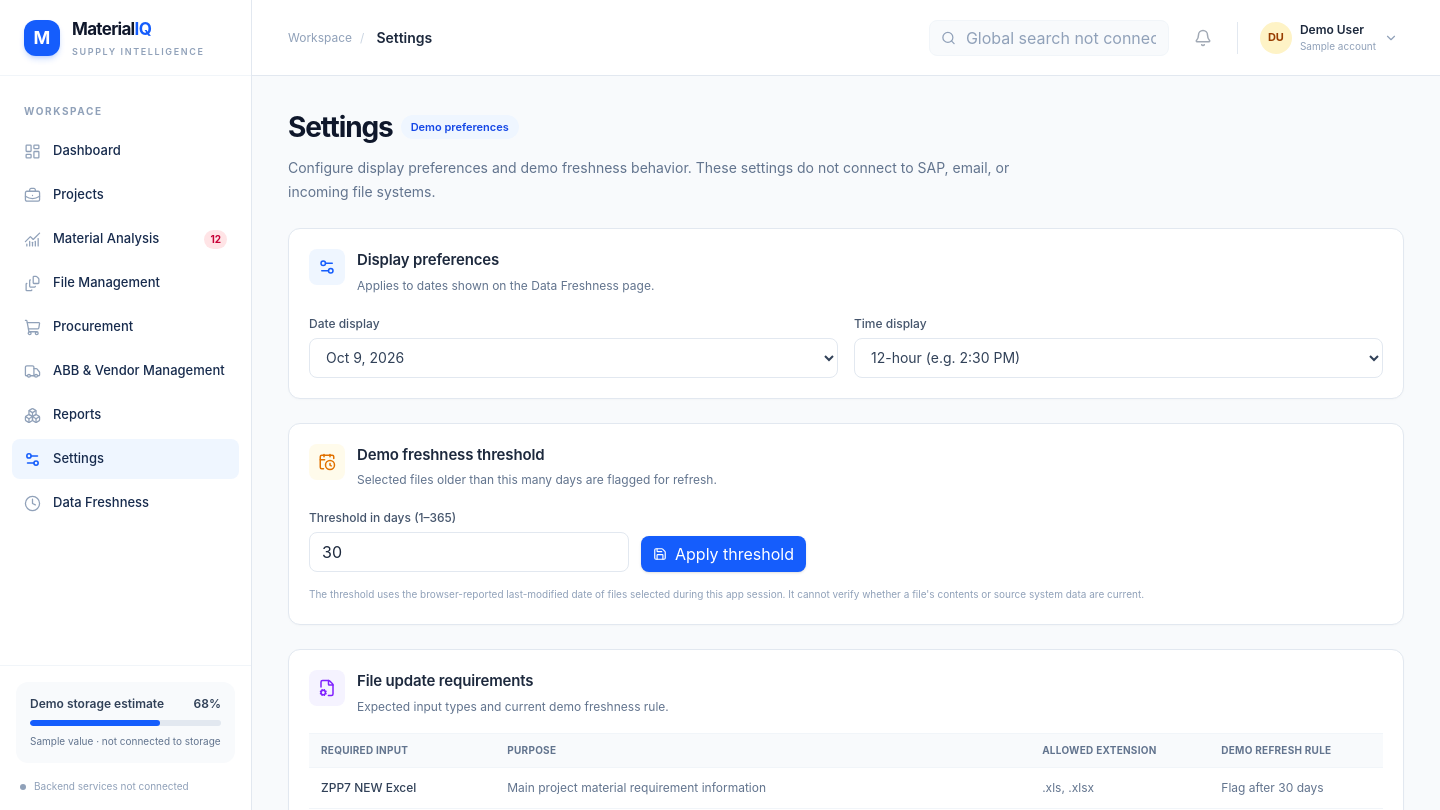
Test: MaterialIQ application › changes display preferences and applies a configurable demo freshness threshold
The image size is (1440, 810).
Select "2026-10-09" in the dropdown named "Date display preference" at (574, 358), box [309,338,838,378]
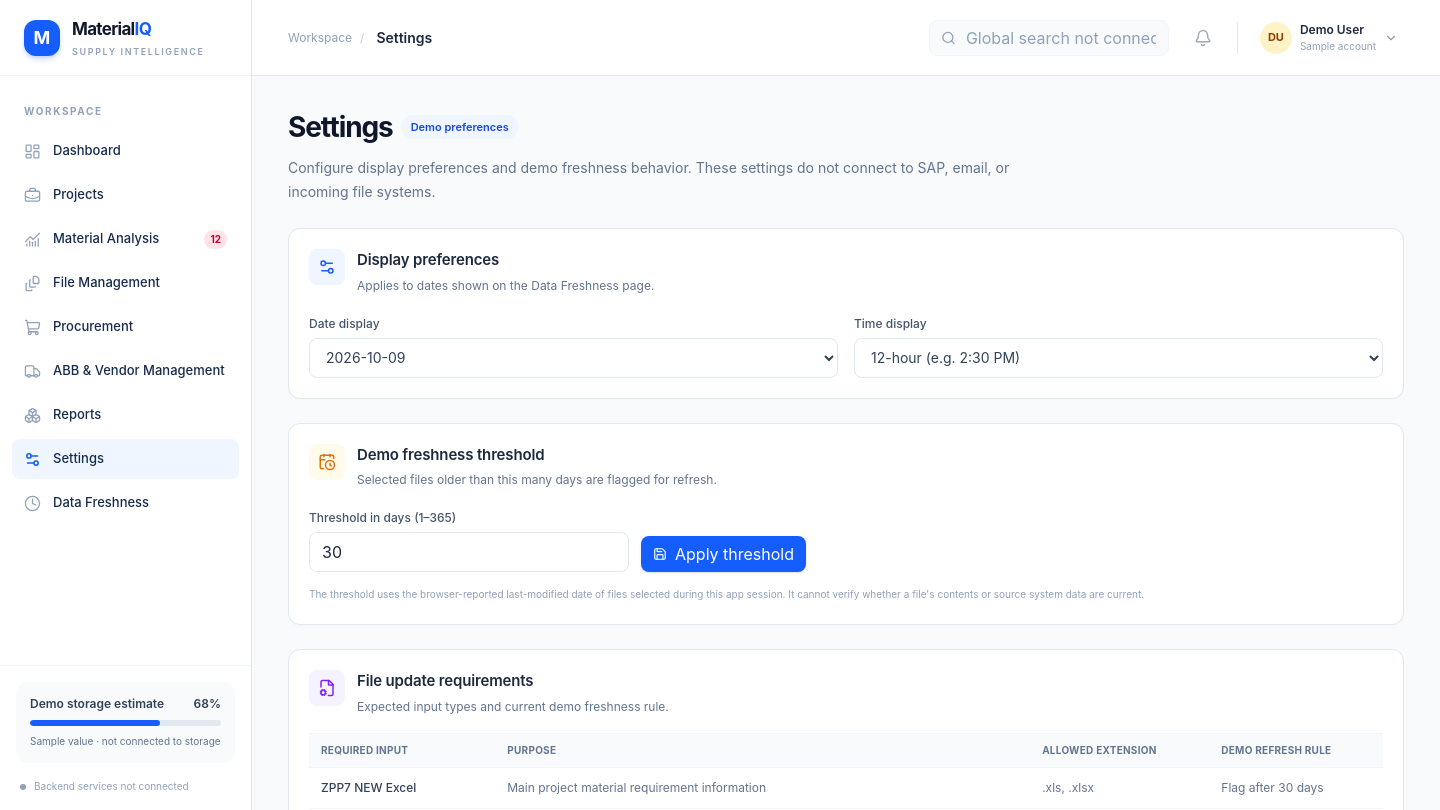
Select "24-hour (e.g. 14:30)" in the dropdown named "Time display preference" at (1118, 358), box [854,338,1383,378]
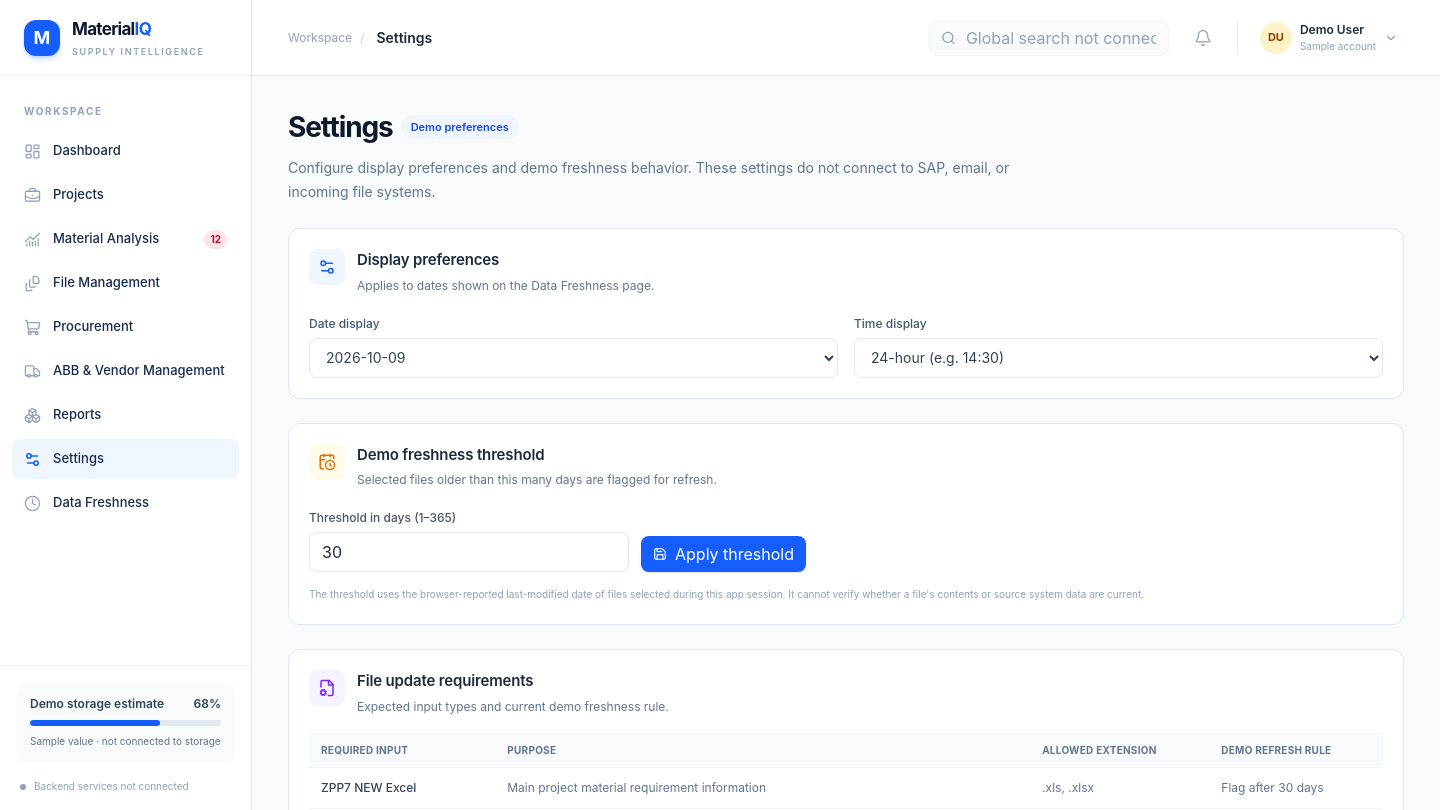
Replace the text in the number field named "Freshness threshold days" with "14" at (469, 552), box [309,532,629,572]
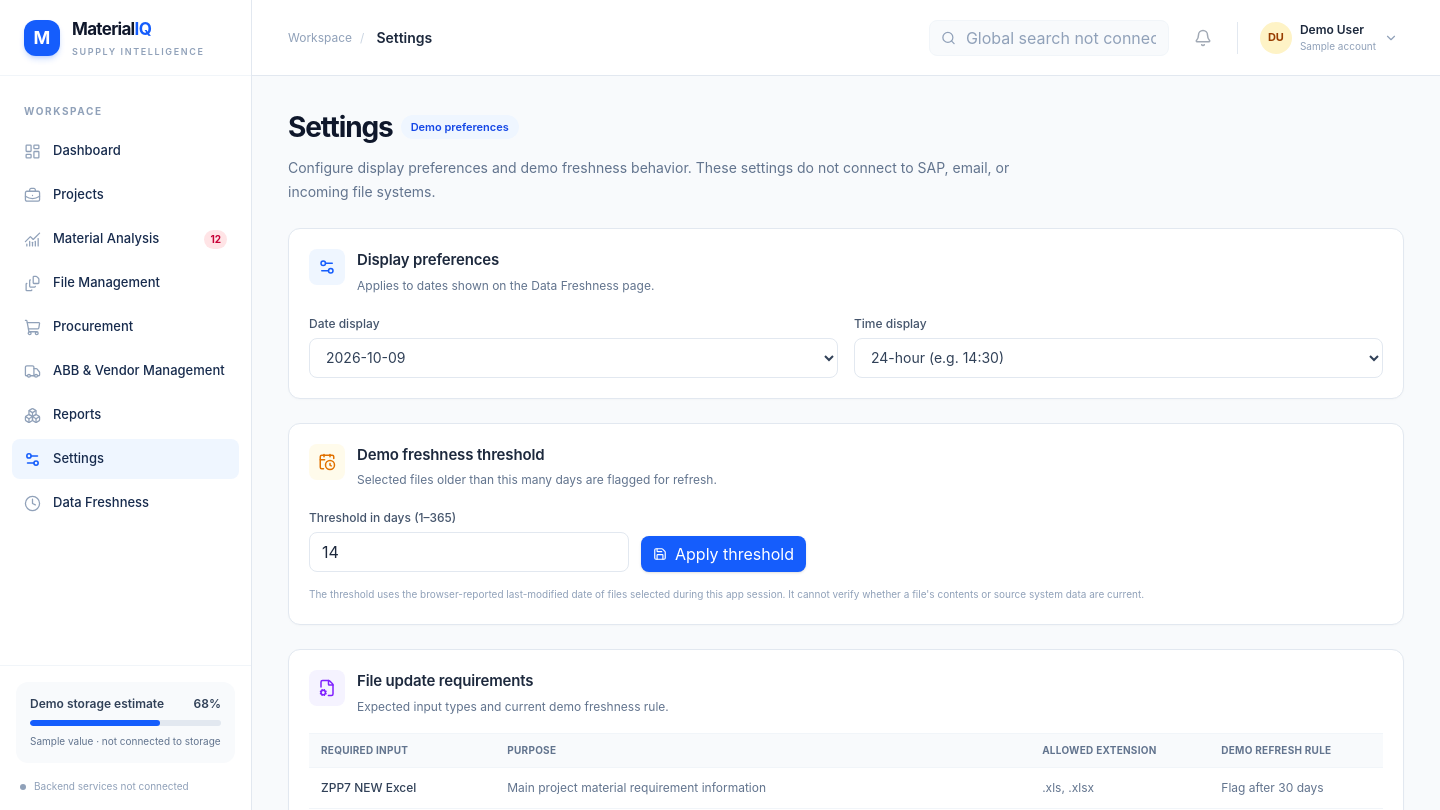
Click the button "Apply threshold" at (724, 554), box [641,536,806,572]
(page scrolled)
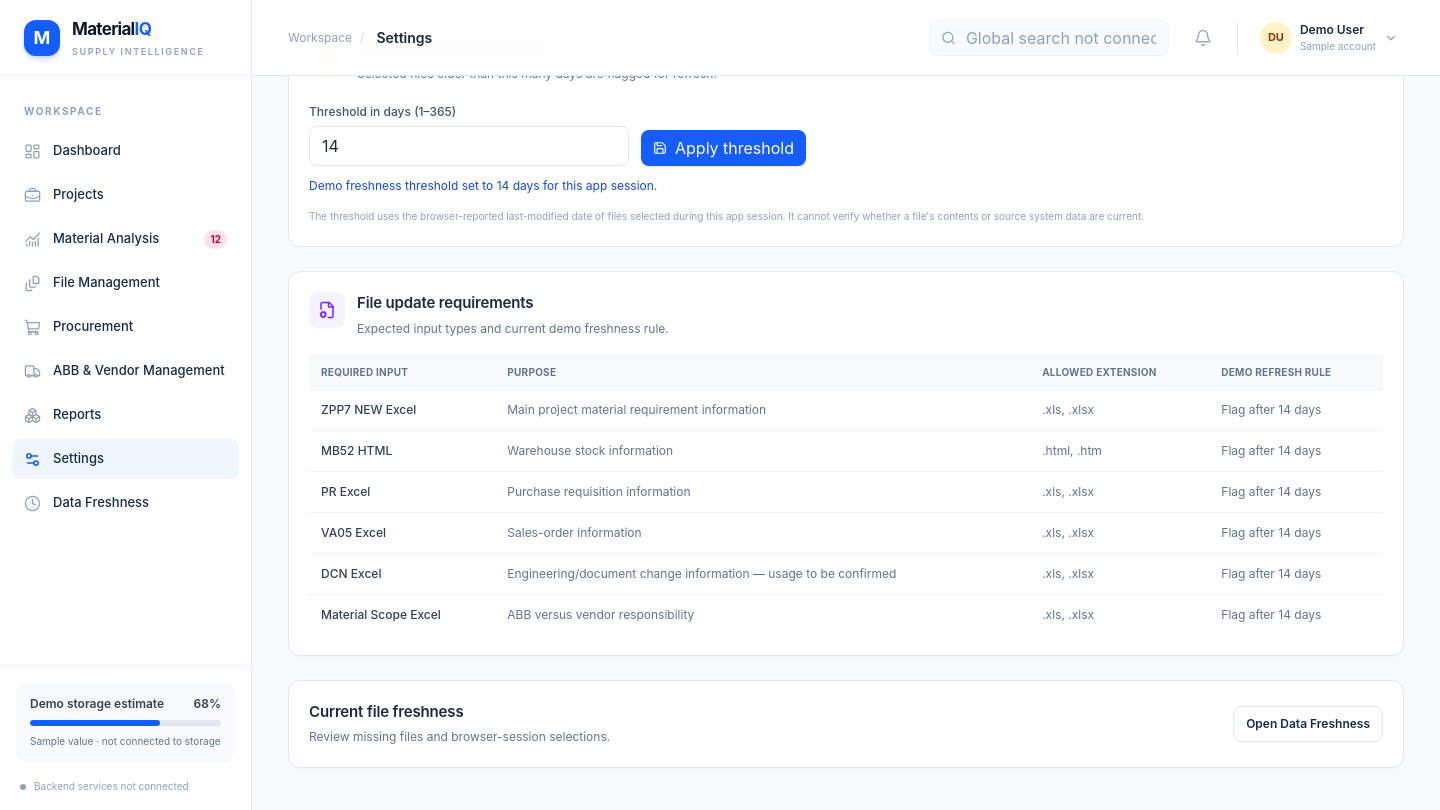
Expected: the text "Flag after 14 days" is shown 6 times, [1209,389,1383,430]; [1209,430,1383,471]; [1209,471,1383,512]; [1209,512,1383,553]; [1209,553,1383,594]; [1209,594,1383,635]
Expected: the message shows "14 days", [309,178,657,193]
Click the link "Open Data Freshness" at (1308, 724), box [1233,706,1383,742]
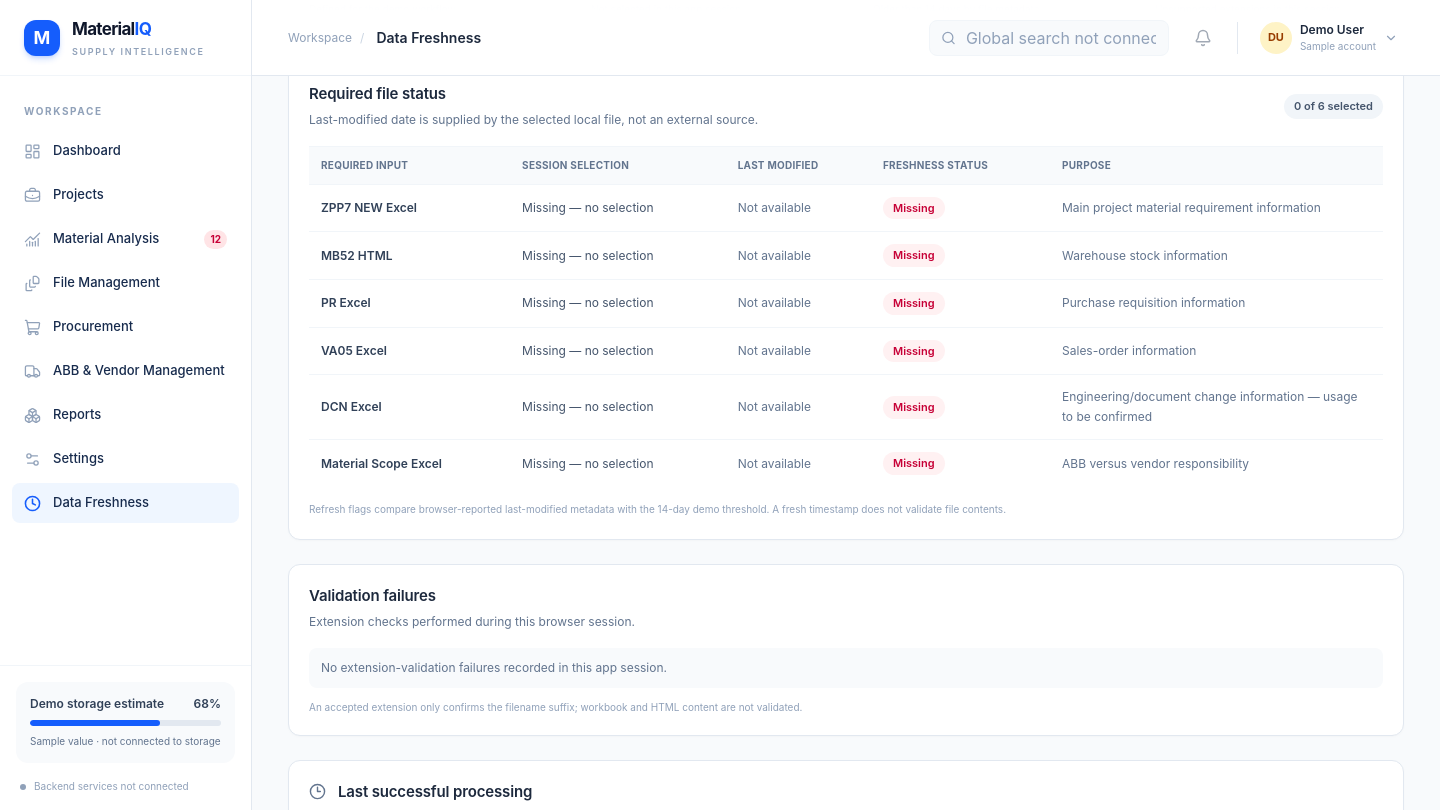
Expected: the text "Refresh flags compare browser-reported last-modified metadata with the 14-day demo threshold" is shown, [309,503,1006,515]
